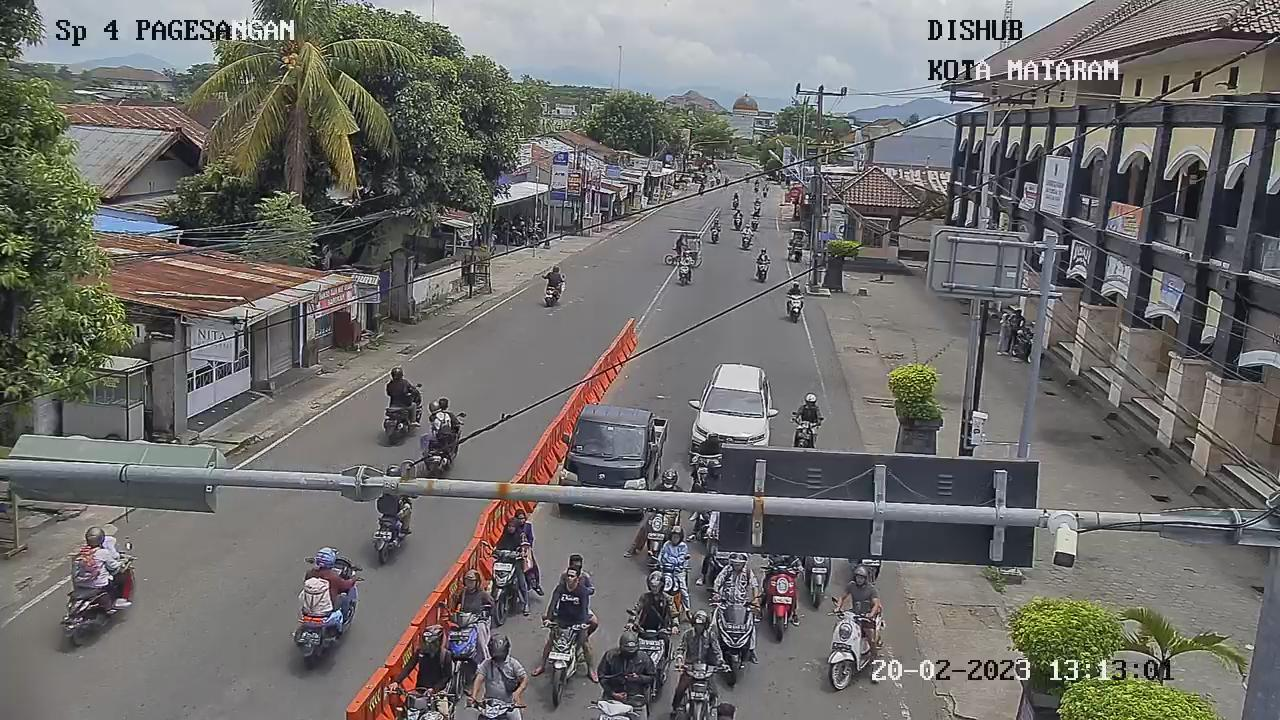car: (567, 407, 658, 489)
motorbike: (700, 592, 762, 689), (530, 614, 590, 706), (475, 536, 533, 630), (754, 556, 806, 643), (823, 604, 871, 689), (671, 653, 729, 720), (438, 606, 493, 668), (798, 544, 843, 617), (626, 614, 674, 679), (640, 509, 676, 567), (786, 408, 827, 455), (784, 291, 803, 325), (674, 260, 694, 288), (754, 259, 771, 283), (739, 231, 754, 252), (707, 228, 722, 245), (730, 217, 743, 232), (750, 219, 763, 234)
person: (296, 528, 366, 632), (60, 520, 128, 595), (473, 633, 532, 715), (597, 626, 653, 704), (544, 553, 597, 634), (705, 547, 763, 617), (621, 566, 678, 636), (674, 608, 728, 679), (404, 622, 458, 692), (444, 569, 496, 631), (836, 559, 880, 629), (415, 391, 465, 446), (653, 522, 693, 577), (383, 368, 422, 421), (490, 508, 526, 564), (786, 389, 824, 431), (690, 431, 724, 467), (544, 264, 565, 289), (785, 278, 803, 301), (676, 250, 691, 270), (755, 246, 771, 263), (709, 216, 721, 232), (741, 223, 753, 237), (733, 208, 744, 221), (731, 189, 741, 203), (752, 197, 763, 208)
